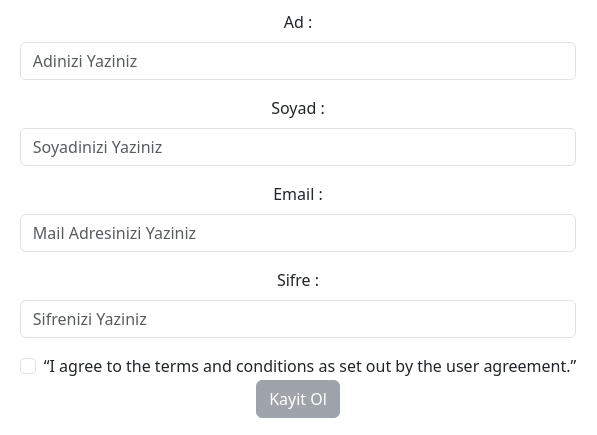
Tests for Login Page › Tests for Register Button › Register Button is enable when all inputs are valid
This screenshot has width=597, height=435.
Type "sirma" into the field with test id "name-input" at [299, 61], box [20, 42, 577, 80]
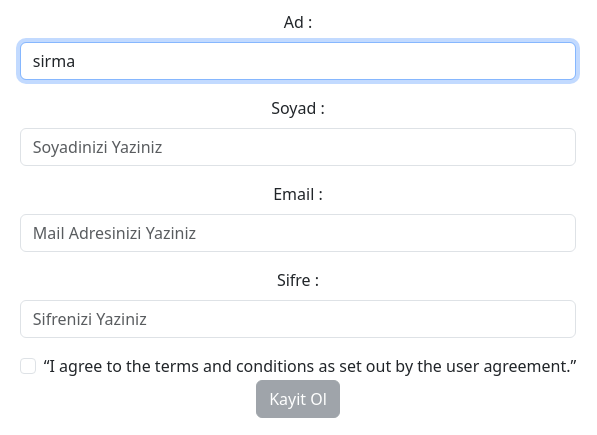
Type "atak" into the field with test id "surname-input" at [299, 147], box [20, 128, 577, 166]
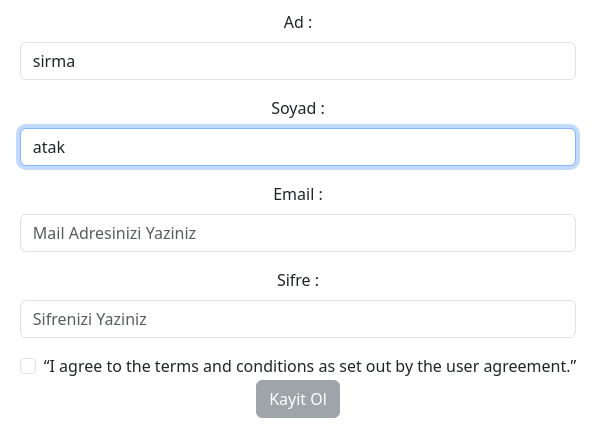
Type "sirma.atak@outlook.com" into the field with test id "email-input" at [299, 233], box [20, 214, 577, 252]
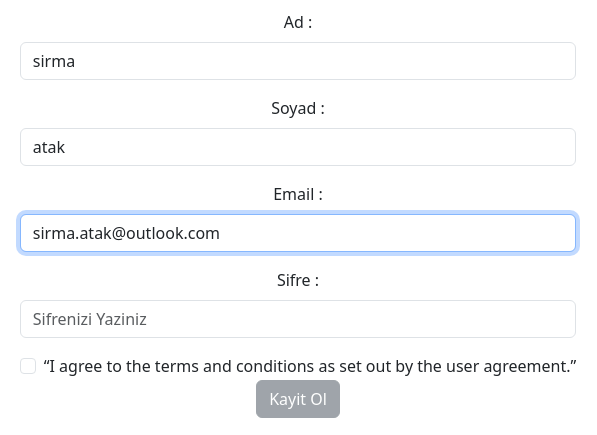
Type "*Sirma123*" into the password field with test id "password-input" at [299, 319], box [20, 300, 577, 338]
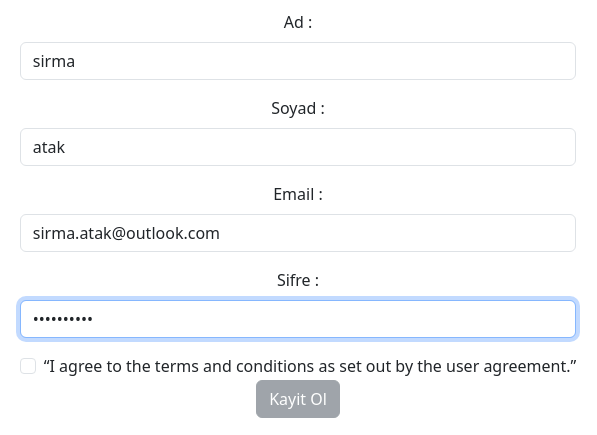
Check the checkbox with test id "checkbox-input" at [28, 366], box [20, 358, 36, 374]
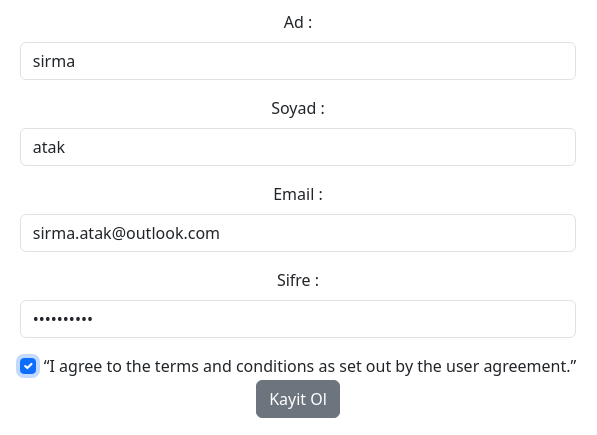
Check: the button with test id "register-button" is enabled, box [256, 380, 340, 418]
